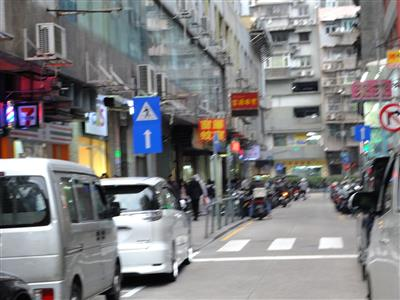noRightTurn: (376, 100, 400, 131)
oneway: (130, 121, 164, 156), (350, 121, 371, 142)
pedestrianCrossing: (131, 94, 162, 125)
